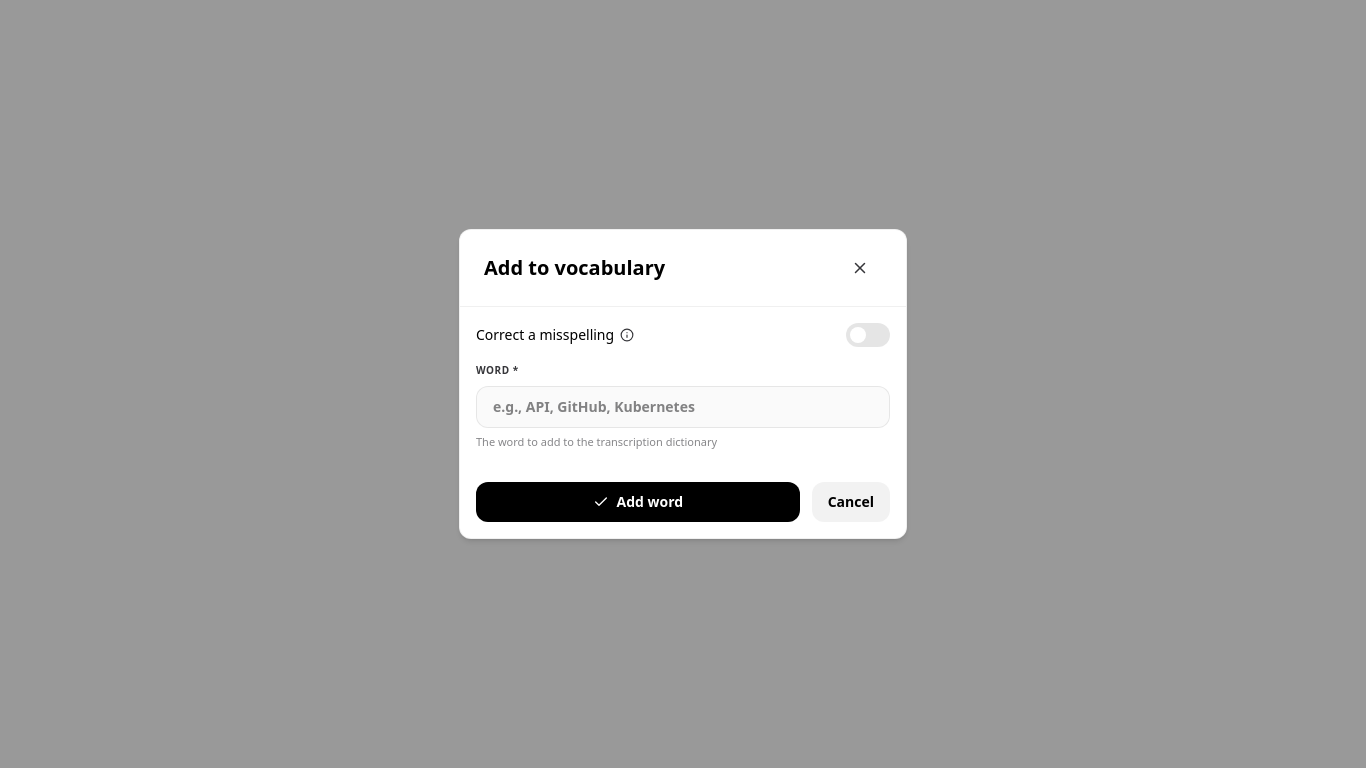
Test: AddWordModal › should show validation error when submitting empty word
Click the button "Add word".
click(638, 502)  # box [476,482,800,522]
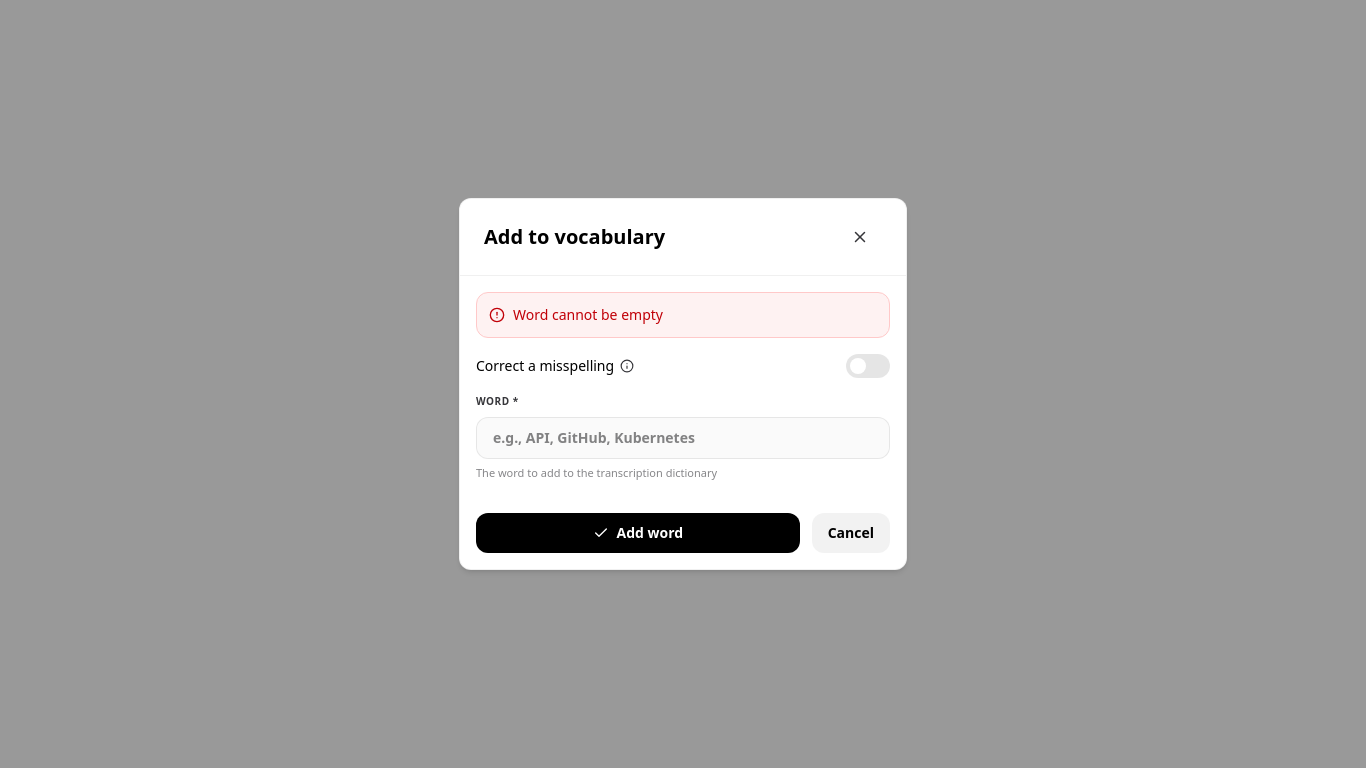
Expected: the text "Word cannot be empty" is shown, [513,305,663,325]
